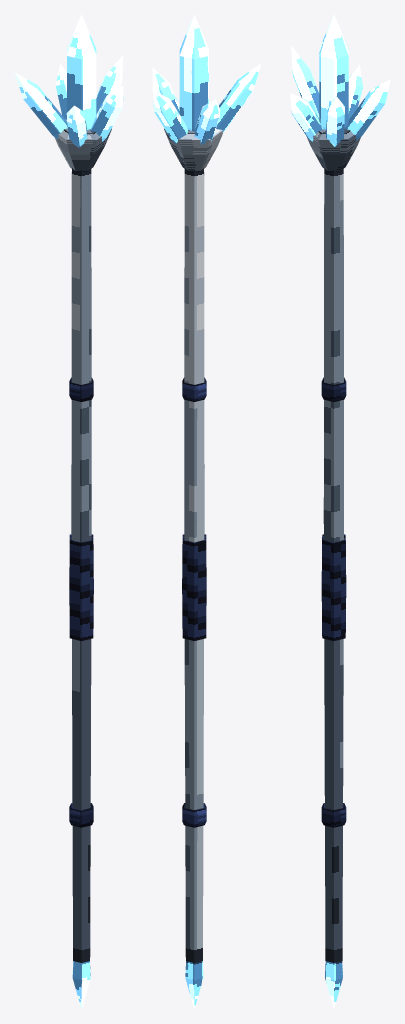
The model's file is staff_frost.glb.
The picture shows the model from 3 angles, left to right: view 1: azimuth 30°, elevation 25°; view 2: azimuth 210°, elevation 25°; view 3: azimuth 330°, elevation 25°; orthographic projection.
Visible parts, largest first — view 1: staff_frost; view 2: staff_frost; view 3: staff_frost.
Boxes of the visible parts, x1,y1,x2,y2 form: staff_frost: [14, 14, 123, 1009]; staff_frost: [152, 14, 261, 1009]; staff_frost: [290, 14, 390, 1008].
Bounding box in the file's own units: 0.2409 × 2.2 × 0.1738.
Materials: 1 (1 with a texture image).
